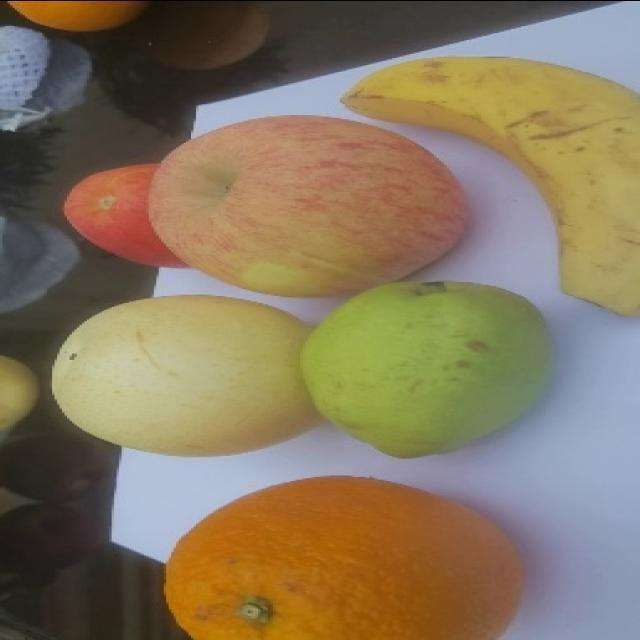Apple: (146, 113, 469, 298), (50, 293, 323, 457)
Banana: (339, 54, 639, 317)
Orange: (162, 474, 523, 639)
